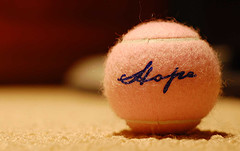tennis ball: (101, 20, 221, 136)
